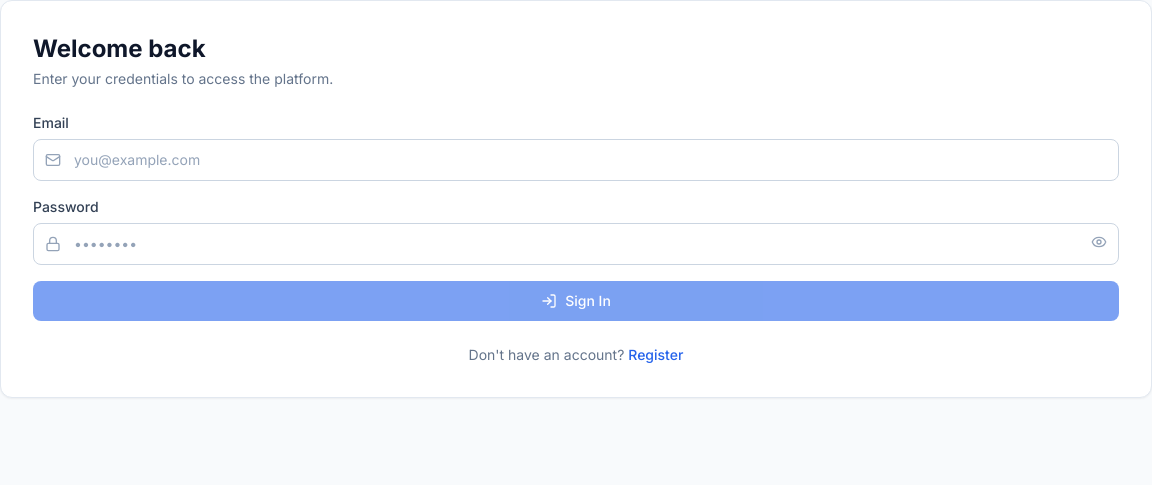
Test: LoginPage › shows server error on failed login
Type "test@iitu.edu.kz" into the field labelled "Email" at (576, 160), box x1=33 y1=139 x2=1119 y2=181
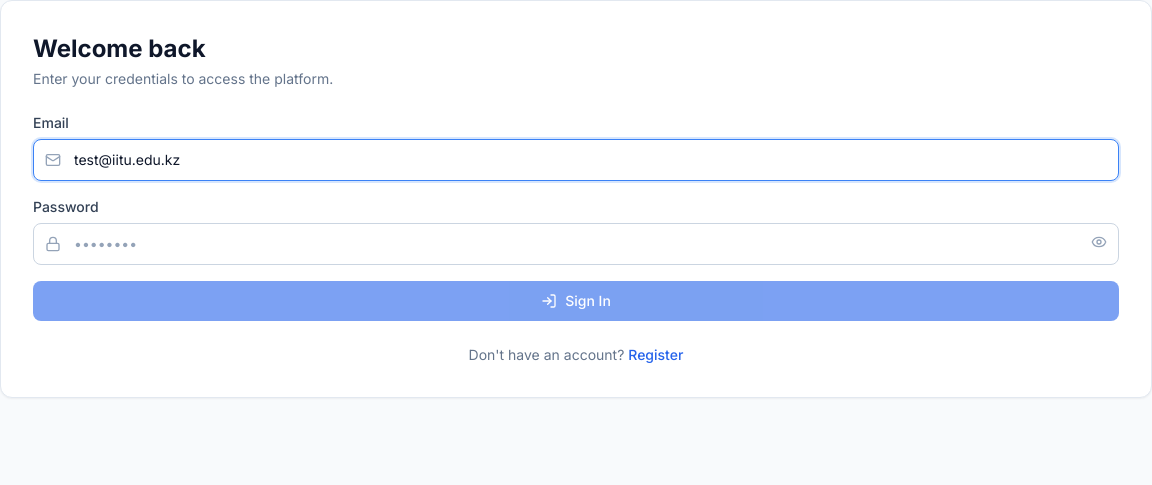
Type "Wrong1234!" into the password field labelled "Password" at (576, 244), box x1=33 y1=223 x2=1119 y2=265
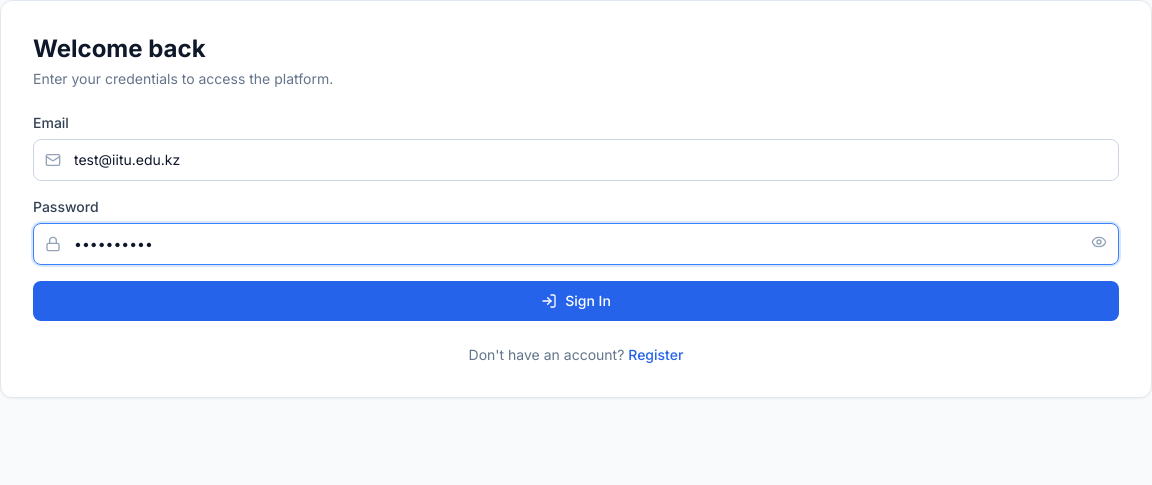
Click the button "Sign In" at (576, 301), box x1=33 y1=281 x2=1119 y2=321
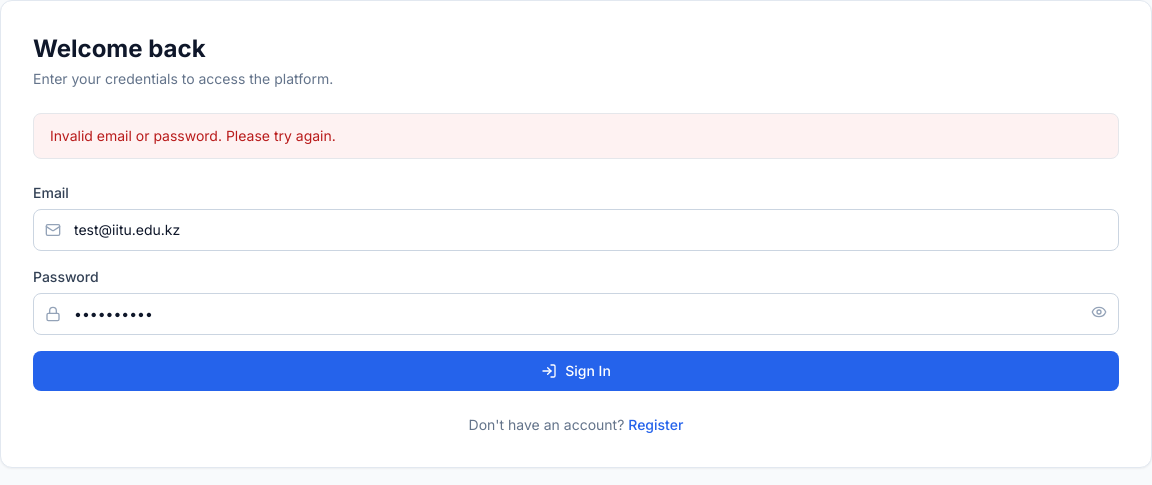
Result: the message shows "Invalid email or password" at x1=50 y1=127 x2=336 y2=144
